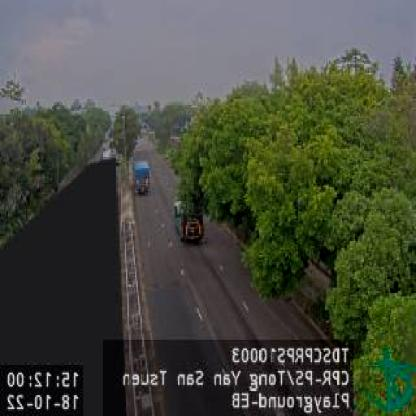Truck: (174, 198, 204, 242), (134, 161, 150, 195)
